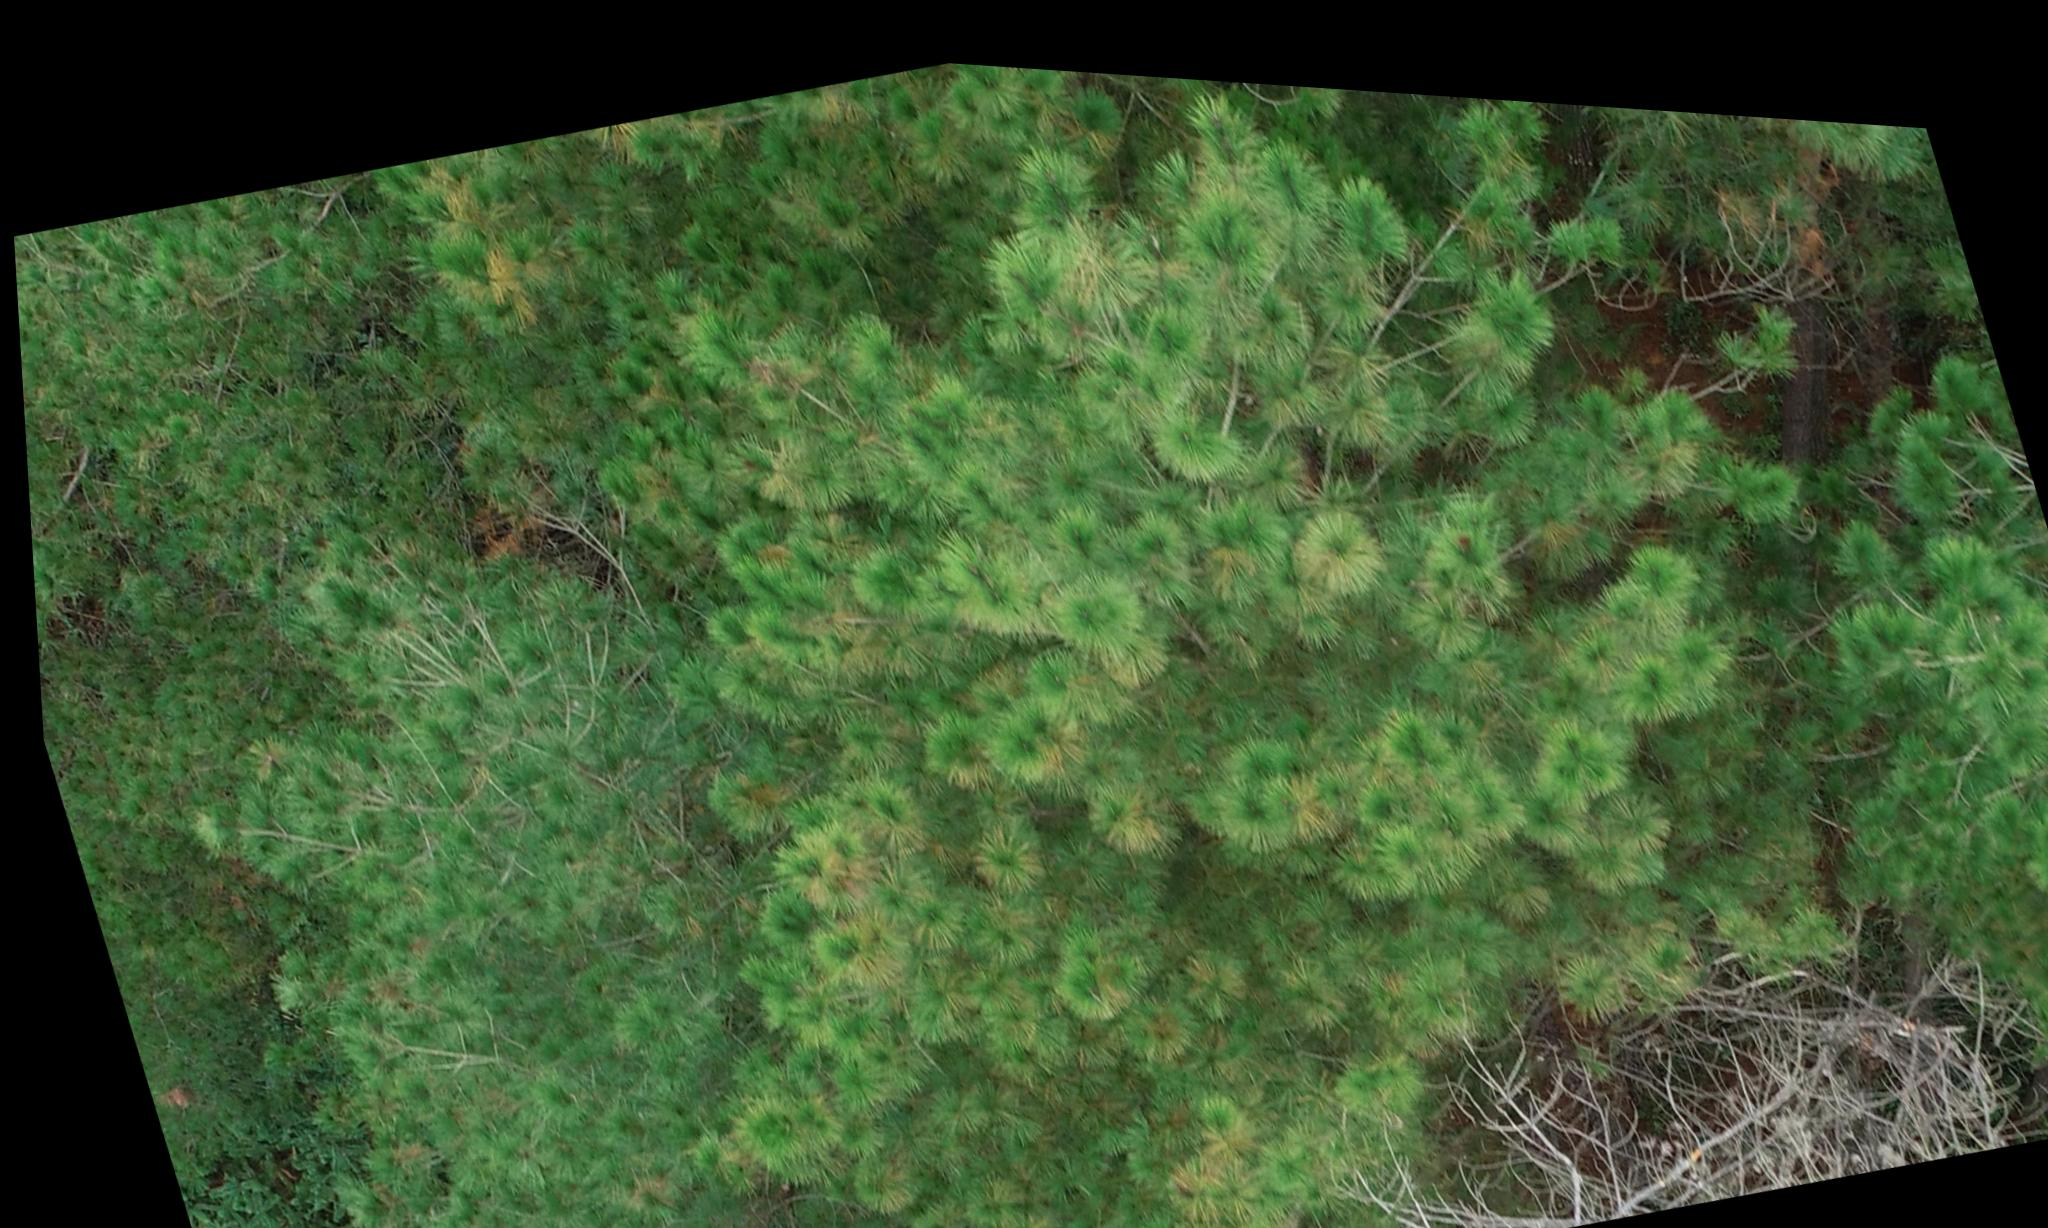light: (395, 20, 1940, 1228)
